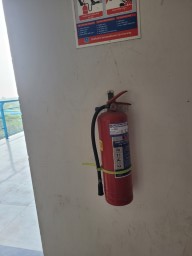fire_extinguisher: (68, 77, 155, 135)
